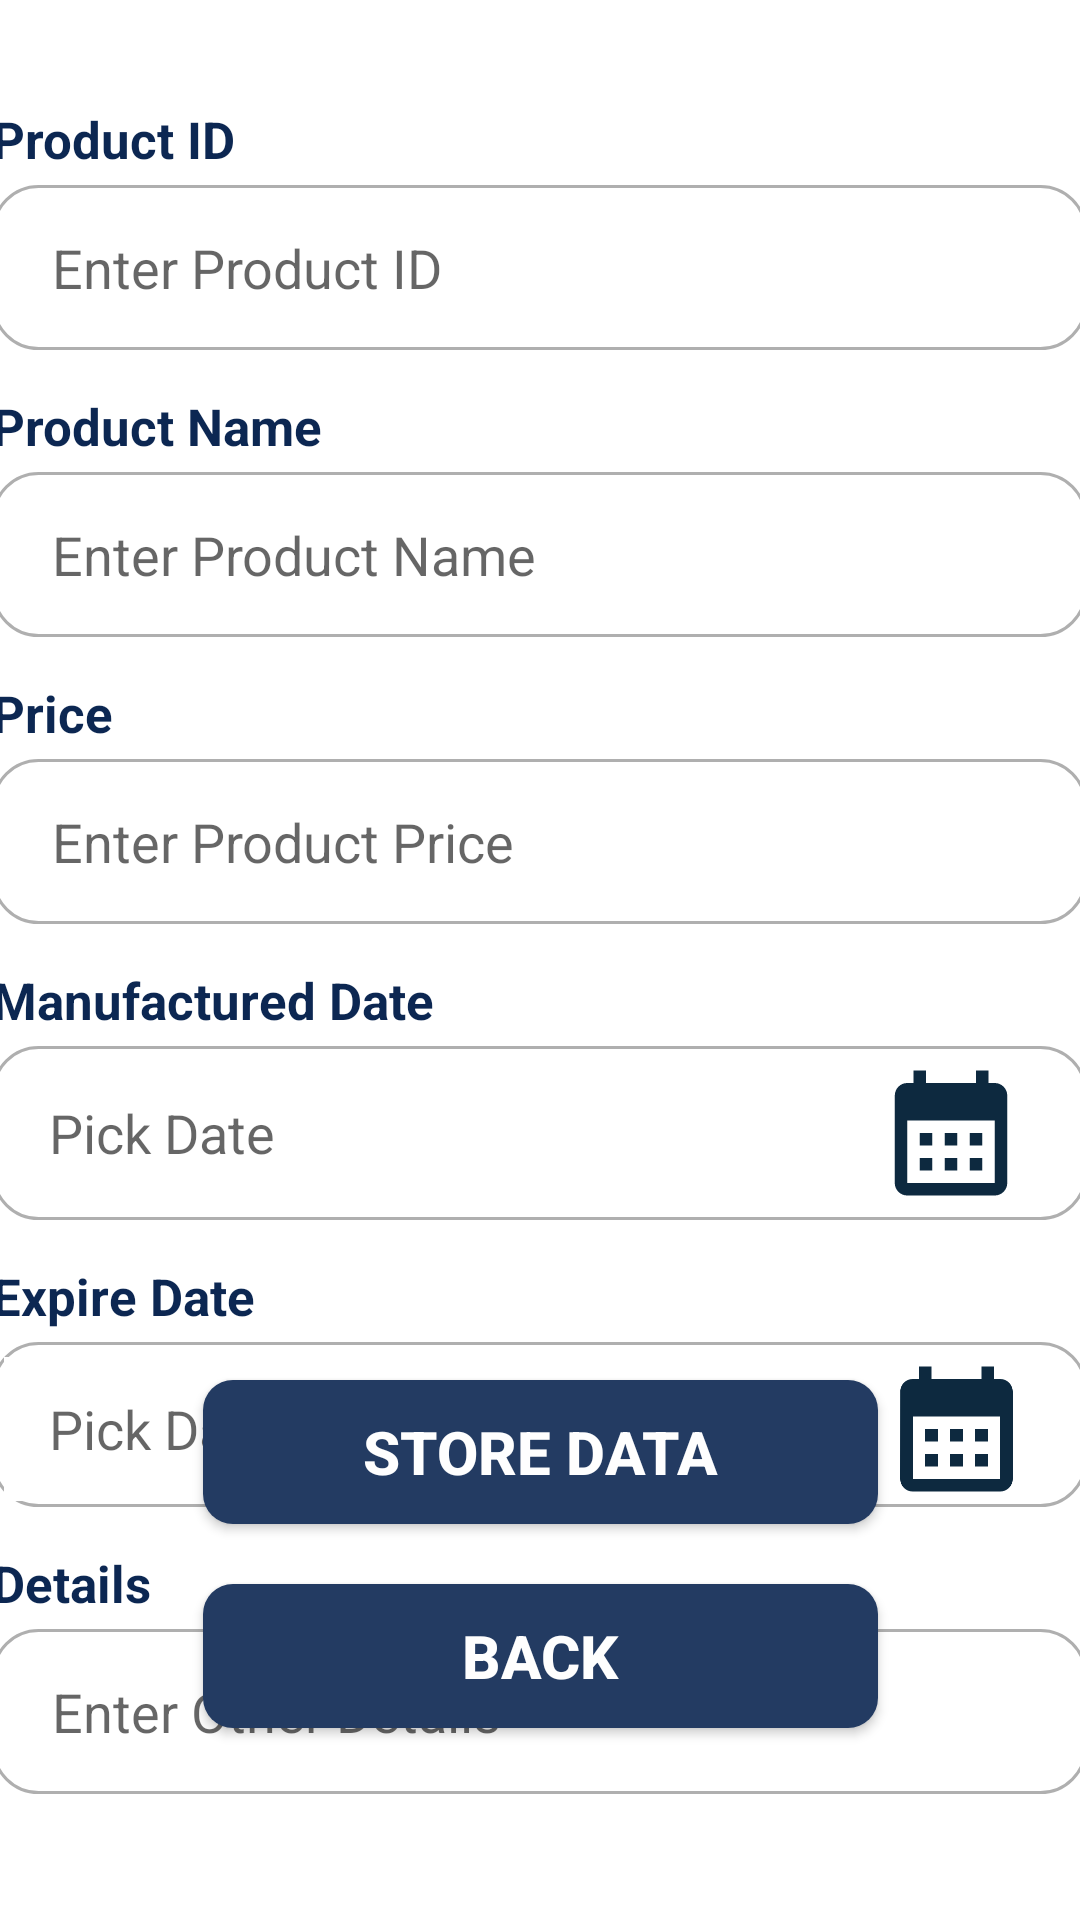

Screen size 1080*1920. Icon name, then its box in pixels as (x1, y1, x2, y2):
calendar month: (894, 1070, 1008, 1196), (900, 1366, 1013, 1492)
